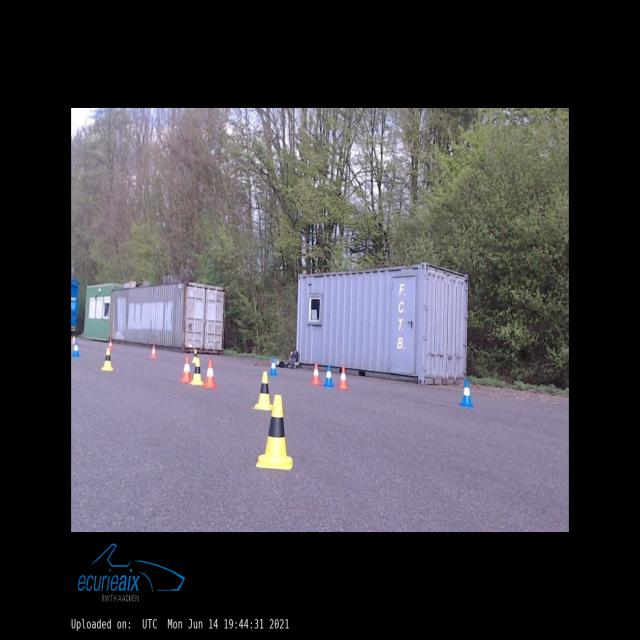blue_cone: (459, 380, 473, 407), (324, 366, 334, 387), (72, 340, 80, 357), (270, 358, 278, 375)
orange_cone: (202, 359, 216, 389), (180, 357, 193, 382), (338, 367, 349, 389), (311, 363, 321, 385), (150, 345, 156, 358), (109, 340, 114, 350), (72, 335, 75, 344)
yellow_cone: (256, 394, 293, 470), (253, 372, 273, 409), (190, 358, 203, 384), (101, 349, 112, 370), (192, 348, 197, 362)
